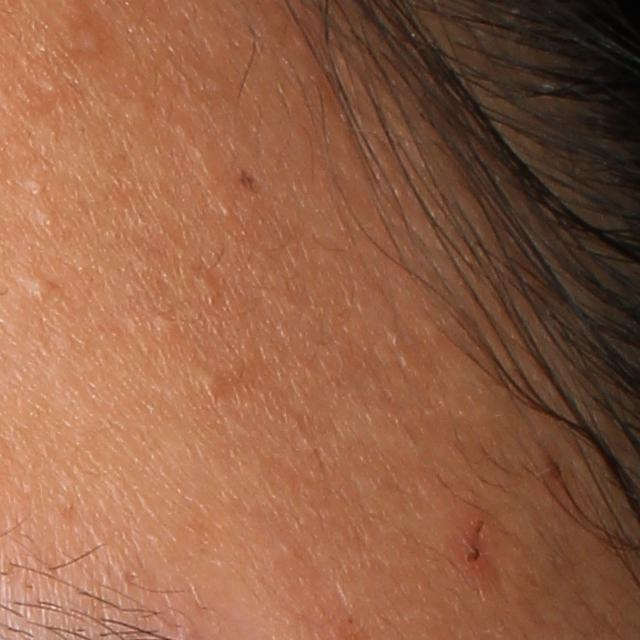comedo: (188, 364, 222, 395), (20, 274, 51, 300), (152, 310, 178, 337), (194, 272, 217, 301), (36, 210, 58, 231), (23, 177, 45, 196)
nevus: (238, 167, 261, 192)
